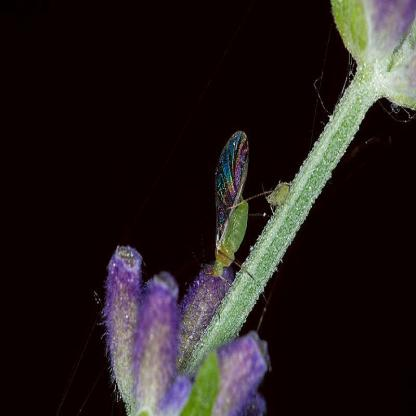aphid: (205, 119, 256, 291), (263, 169, 291, 218)
